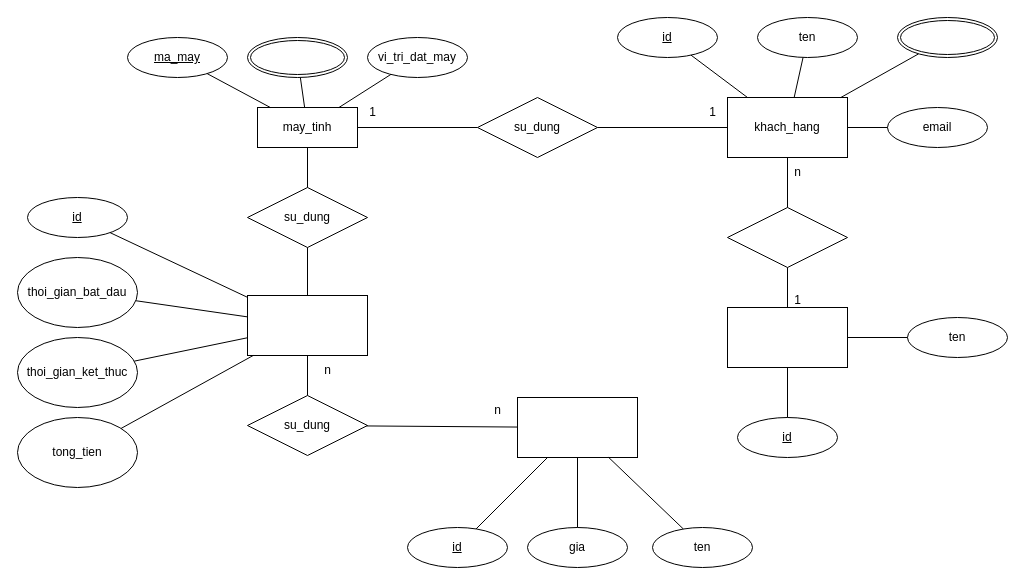
The diagram is 1025 pixels wide and 585 high, and some of its shapes have lost their labels. Each missing label, with the centre of its shape:
"có" belongs at (787,237).
"dich_vu_di_kem" belongs at (577,427).
"hang_san_xuat" belongs at (297,57).
"loai_khach_hang" belongs at (787,337).
"sdt" belongs at (947,37).
"su_dung_dich_vu" belongs at (307,325).
